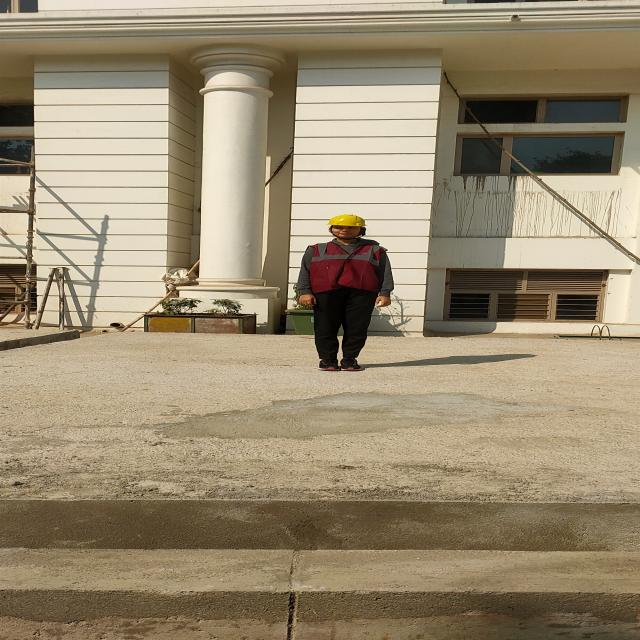safe: (299, 214, 392, 370)
